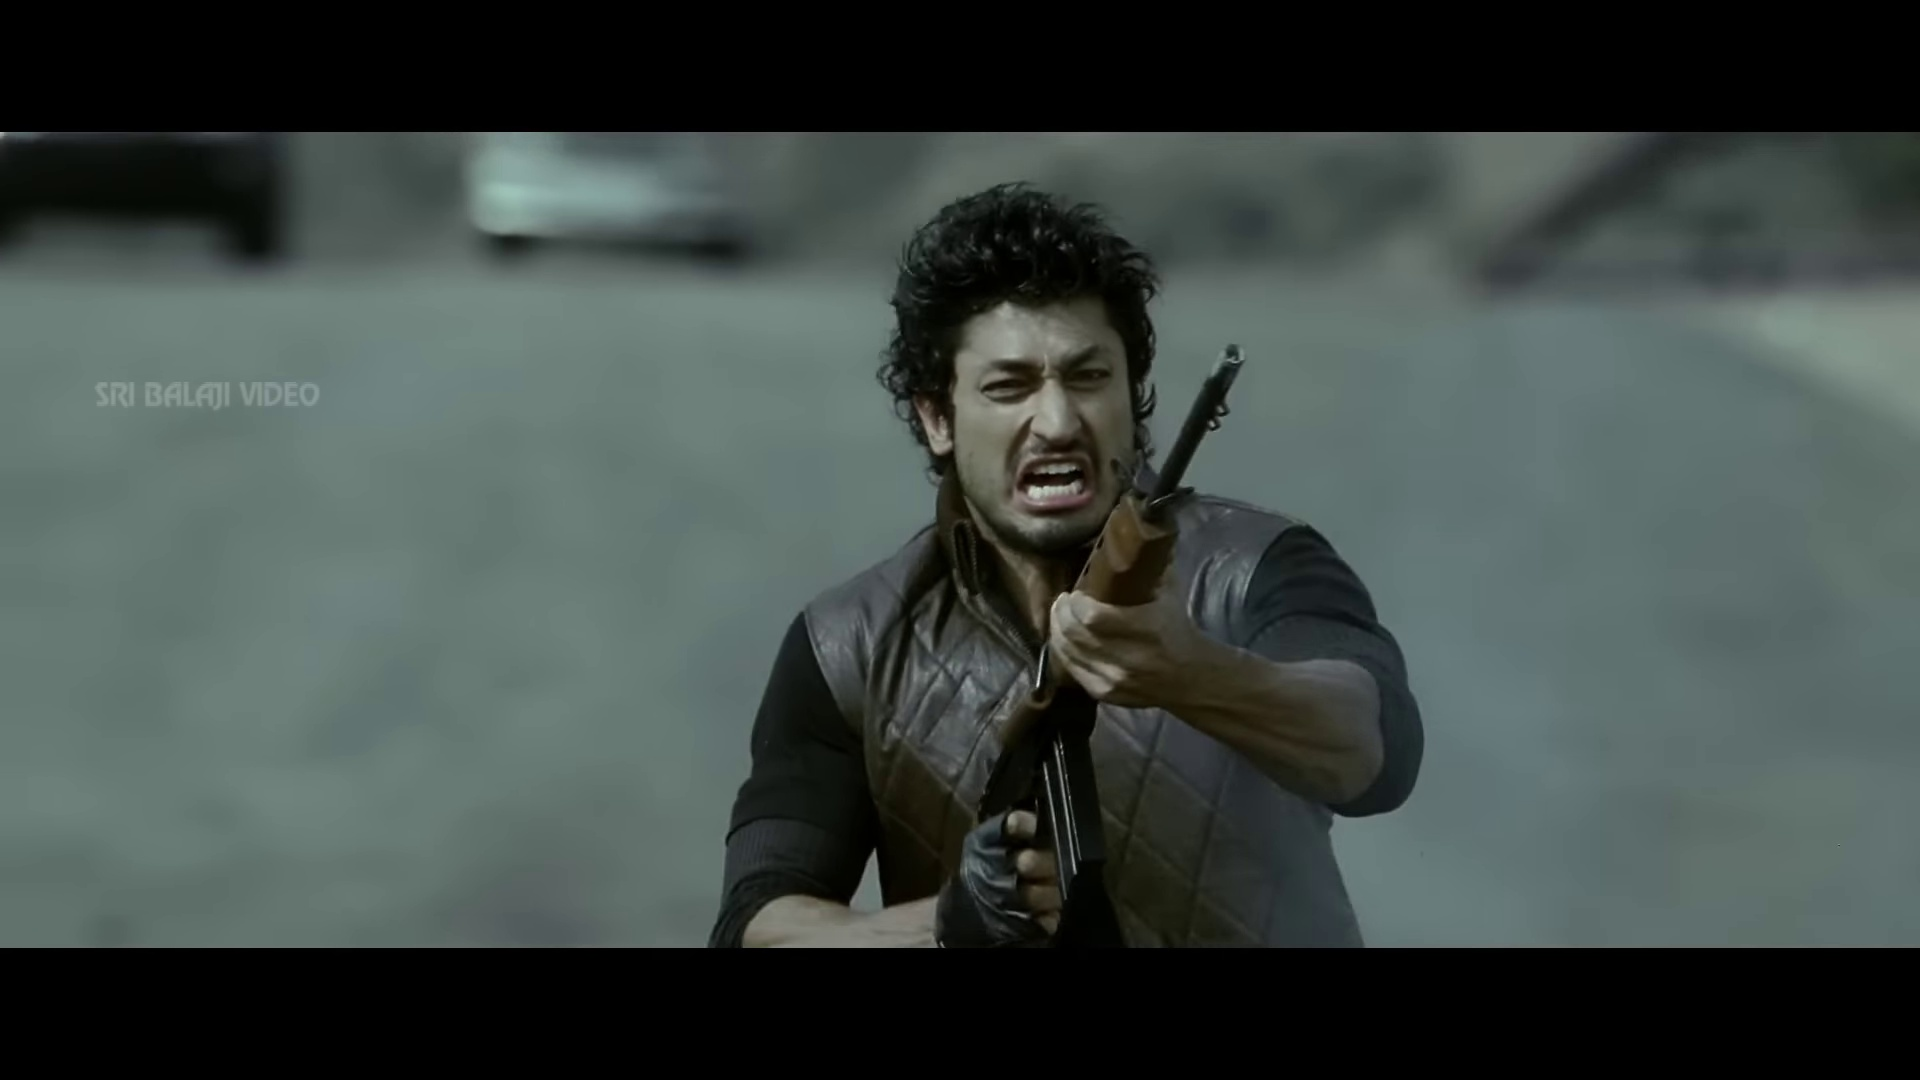gun: (938, 339, 1249, 945)
p_w_gun: (709, 178, 1424, 953)
